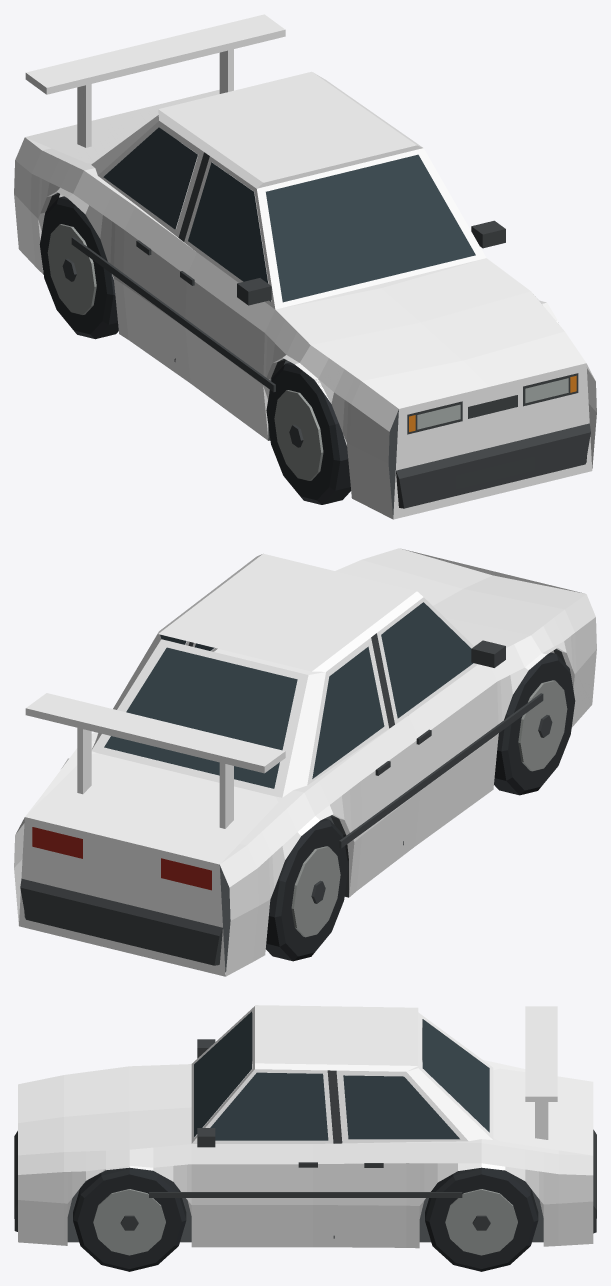
Rendered from kosame_kazahana_corrida.glb.
3 views of the same model, one above another, from view 1: azimuth 30°, elevation 25°; view 2: azimuth 150°, elevation 25°; view 3: azimuth 270°, elevation 25° (orthographic). The views are drawn at different scales.
Parts seen in each view (by area): view 1: kosame_kazahana_corrida; view 2: kosame_kazahana_corrida; view 3: kosame_kazahana_corrida.
Part boxes in pixels (box(x1,y1,x2,y2)): kosame_kazahana_corrida: box(14, 14, 596, 519); kosame_kazahana_corrida: box(14, 548, 596, 976); kosame_kazahana_corrida: box(14, 1005, 596, 1271).
Bounding box in the file's own units: 1.63 × 1.44 × 3.94.
8 materials, 1 textured.
